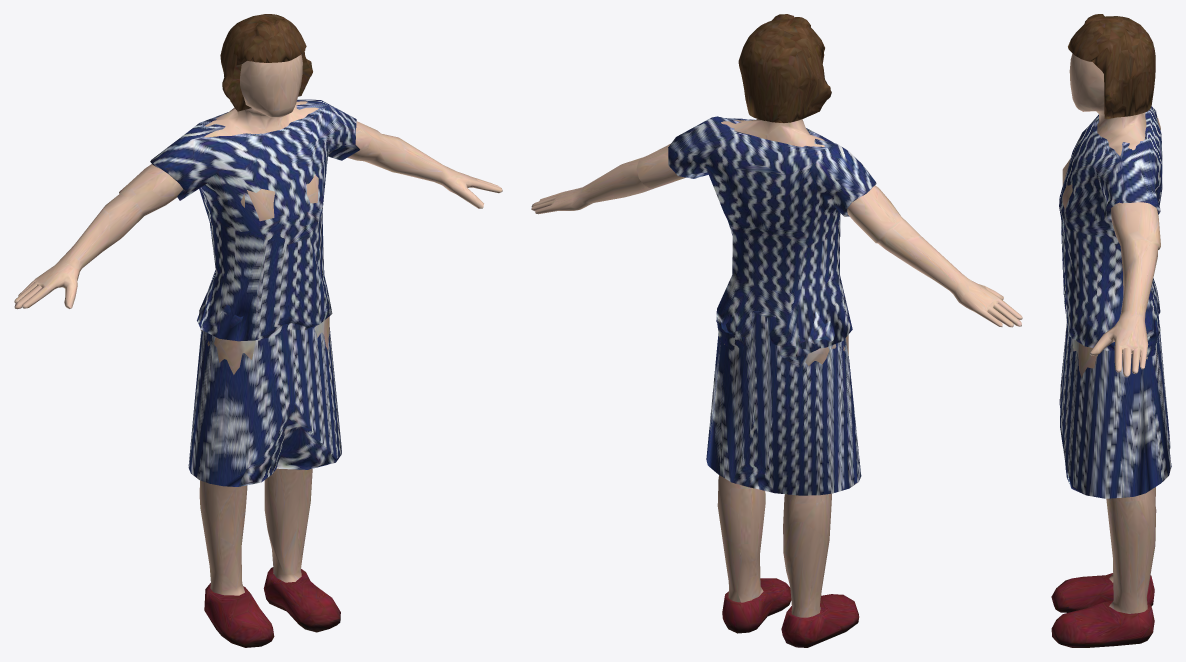
The model's file is npc_x_woman3.glb.
3 views of the same model, side by side, from view 1: azimuth 30°, elevation 25°; view 2: azimuth 150°, elevation 25°; view 3: azimuth 270°, elevation 25° (orthographic).
Visible parts, largest first — view 1: Human; view 2: Human; view 3: Human.
Part boxes in pixels (x1,y1,x2,y2): Human: [14, 14, 502, 647]; Human: [531, 14, 1022, 647]; Human: [1051, 14, 1171, 647].
Size of the model in its own units: 1.43 by 1.7 by 0.3046.
Materials: 1 (1 with a texture image).
